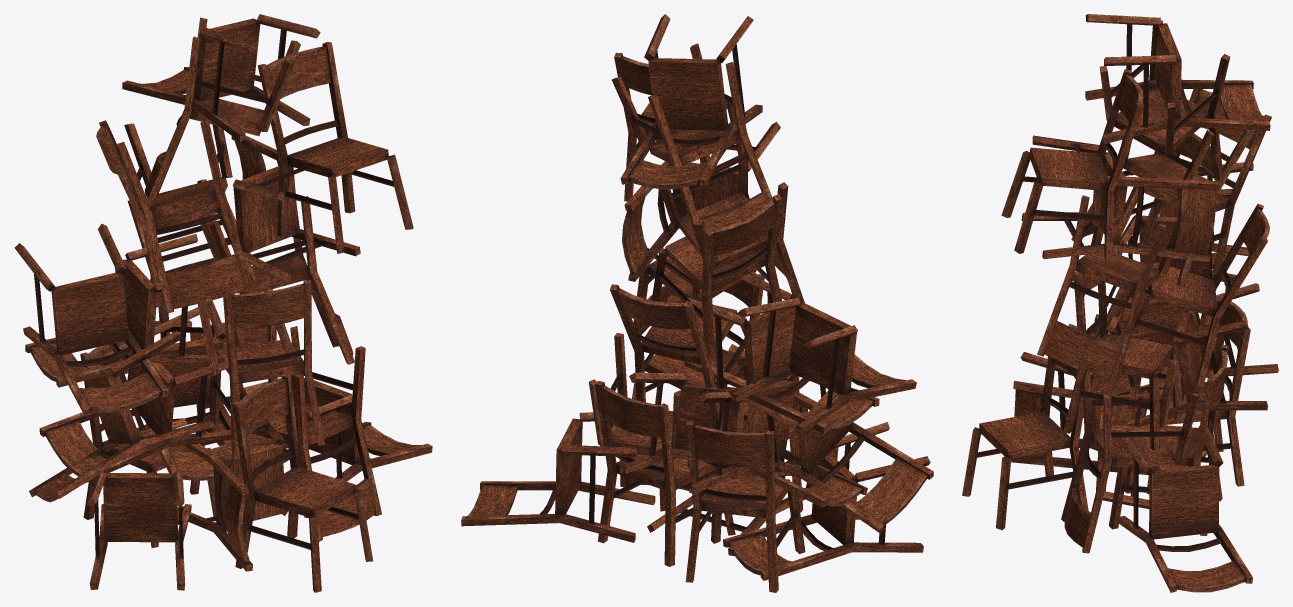
File: bugPile.obj
3 views of the same model, side by side, from view 1: azimuth 30°, elevation 25°; view 2: azimuth 150°, elevation 25°; view 3: azimuth 270°, elevation 25° (orthographic). The views are drawn at different scales.
Visible parts, largest first — view 1: Cube.001; view 2: Cube.001; view 3: Cube.001.
Part boxes in pixels (x1,y1,x2,y2): Cube.001: (14,14,432,592); Cube.001: (461,14,933,592); Cube.001: (962,14,1278,592).
Bounding box in the file's own units: 4.41 × 5.11 × 3.05.
